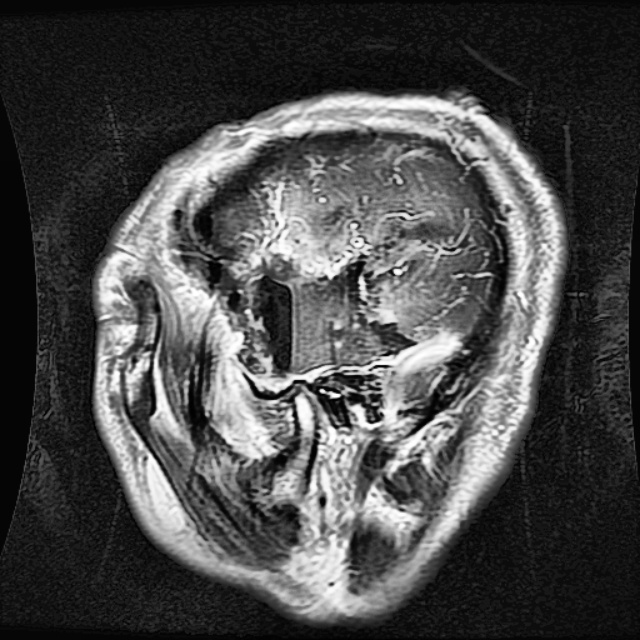Meningioma: (237, 253, 420, 375)
